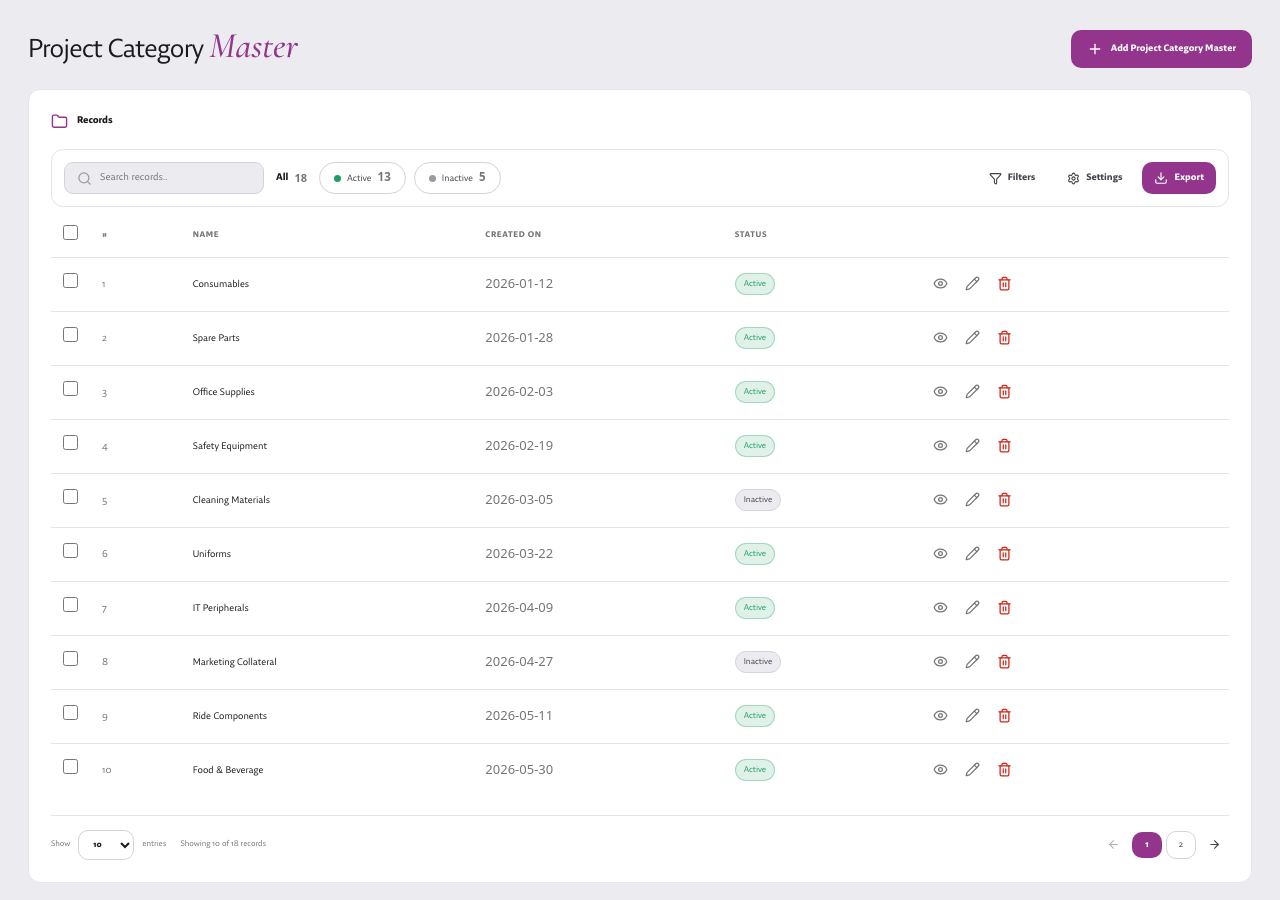
Test: MasterPage — Project Category Master (pc mode) › filters by the Active/Inactive status chips with correct counts
The width and height of the screenshot is (1280, 900).
Check: the text "18" is shown, box [294, 170, 307, 186]
Click the button with test id "status-chip-inactive": (457, 178) [414, 162, 501, 194]
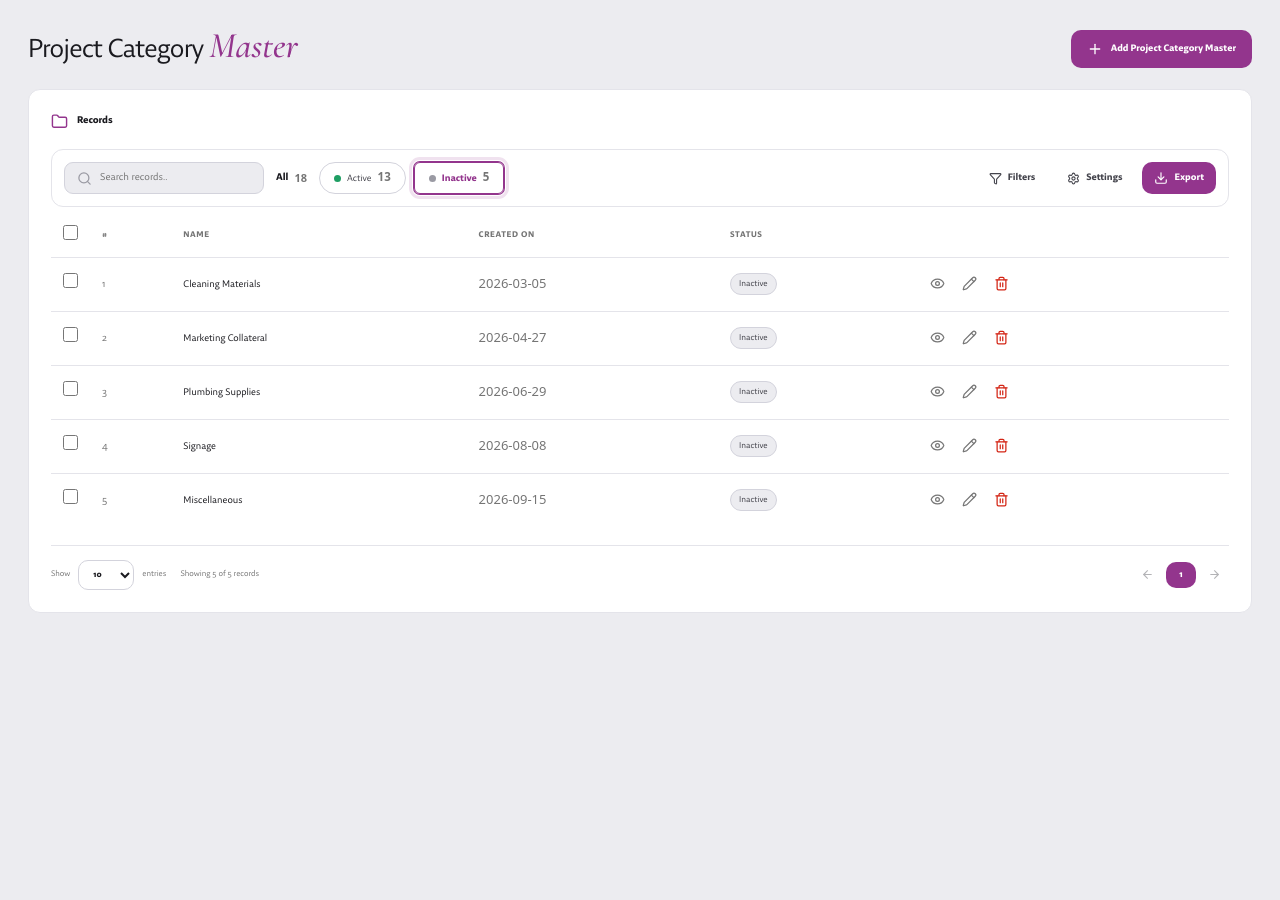
Check: the text "Showing 5 of 5 records" is shown, box [180, 567, 259, 583]
Click the button with test id "status-chip-inactive": (459, 178) [414, 162, 504, 194]
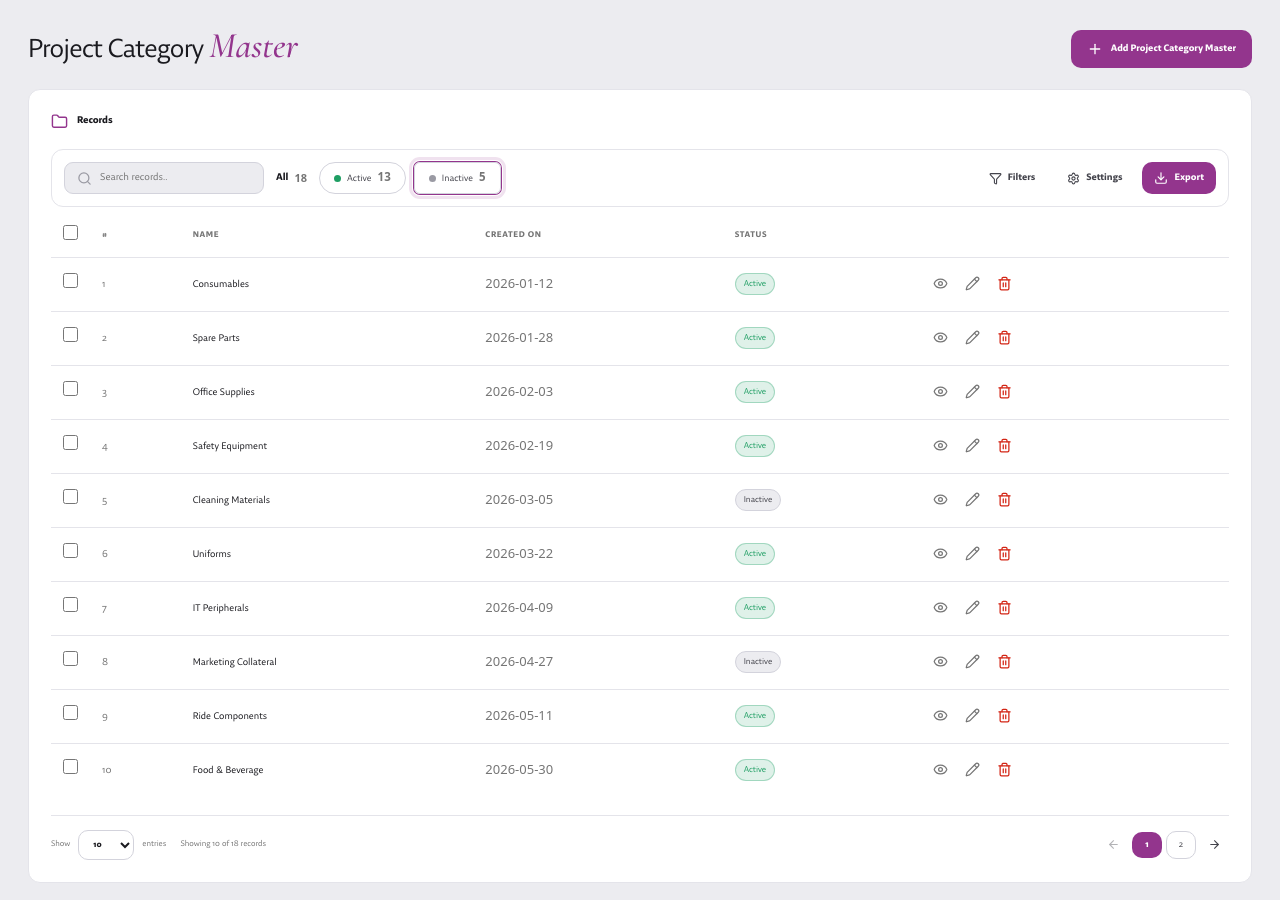
Check: the text "Showing 10 of 18 records" is shown, box [180, 837, 266, 853]
